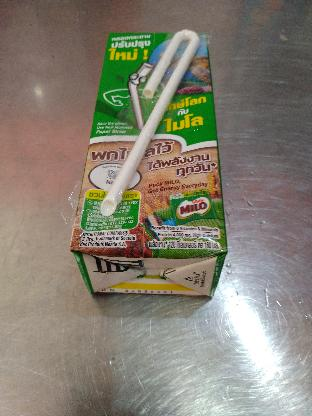Others: (67, 20, 247, 326)
